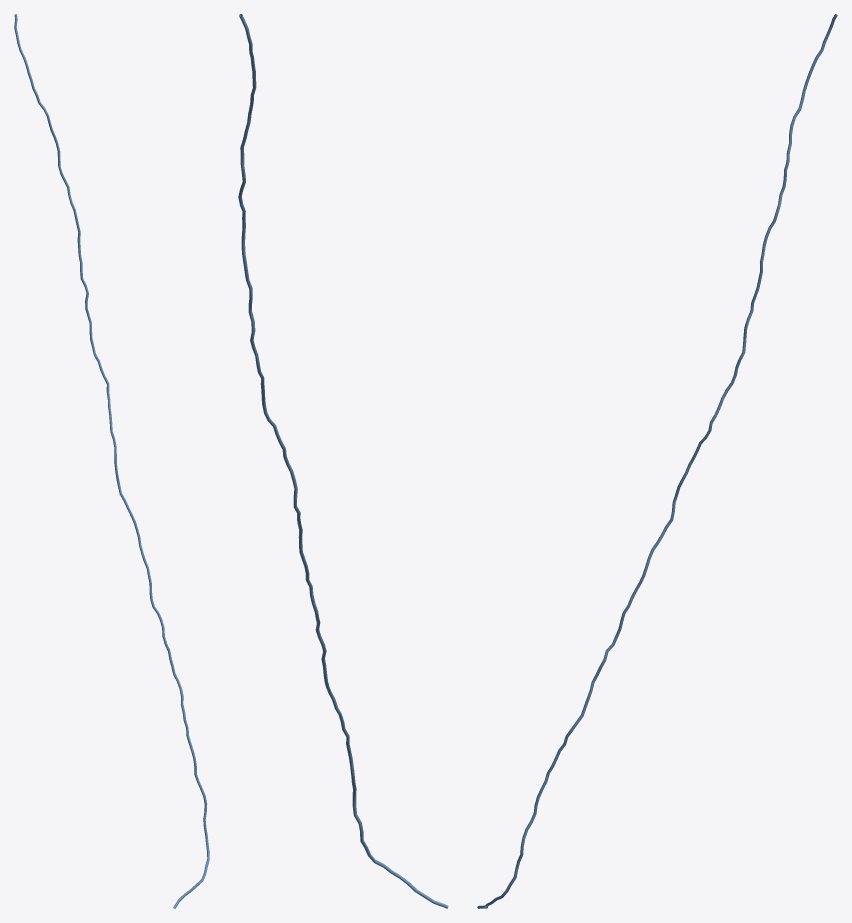
File: sweep394.fbx
3 views of the same model, side by side, from view 1: azimuth 30°, elevation 25°; view 2: azimuth 150°, elevation 25°; view 3: azimuth 270°, elevation 25° (orthographic). The views are drawn at different scales.
Visible parts, largest first — view 1: sweep394; view 2: sweep394; view 3: sweep394.
Boxes of the visible parts, x1,y1,x2,y2 form: sweep394: (14,14,209,908); sweep394: (238,14,448,908); sweep394: (477,14,837,908).
Bounding box in the file's own units: 0.4914 × 6.38 × 2.33.
